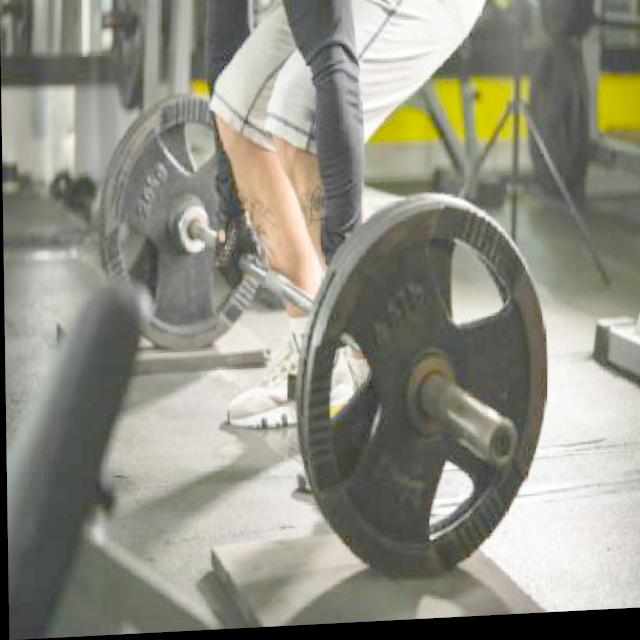barbell: (286, 195, 562, 588)
